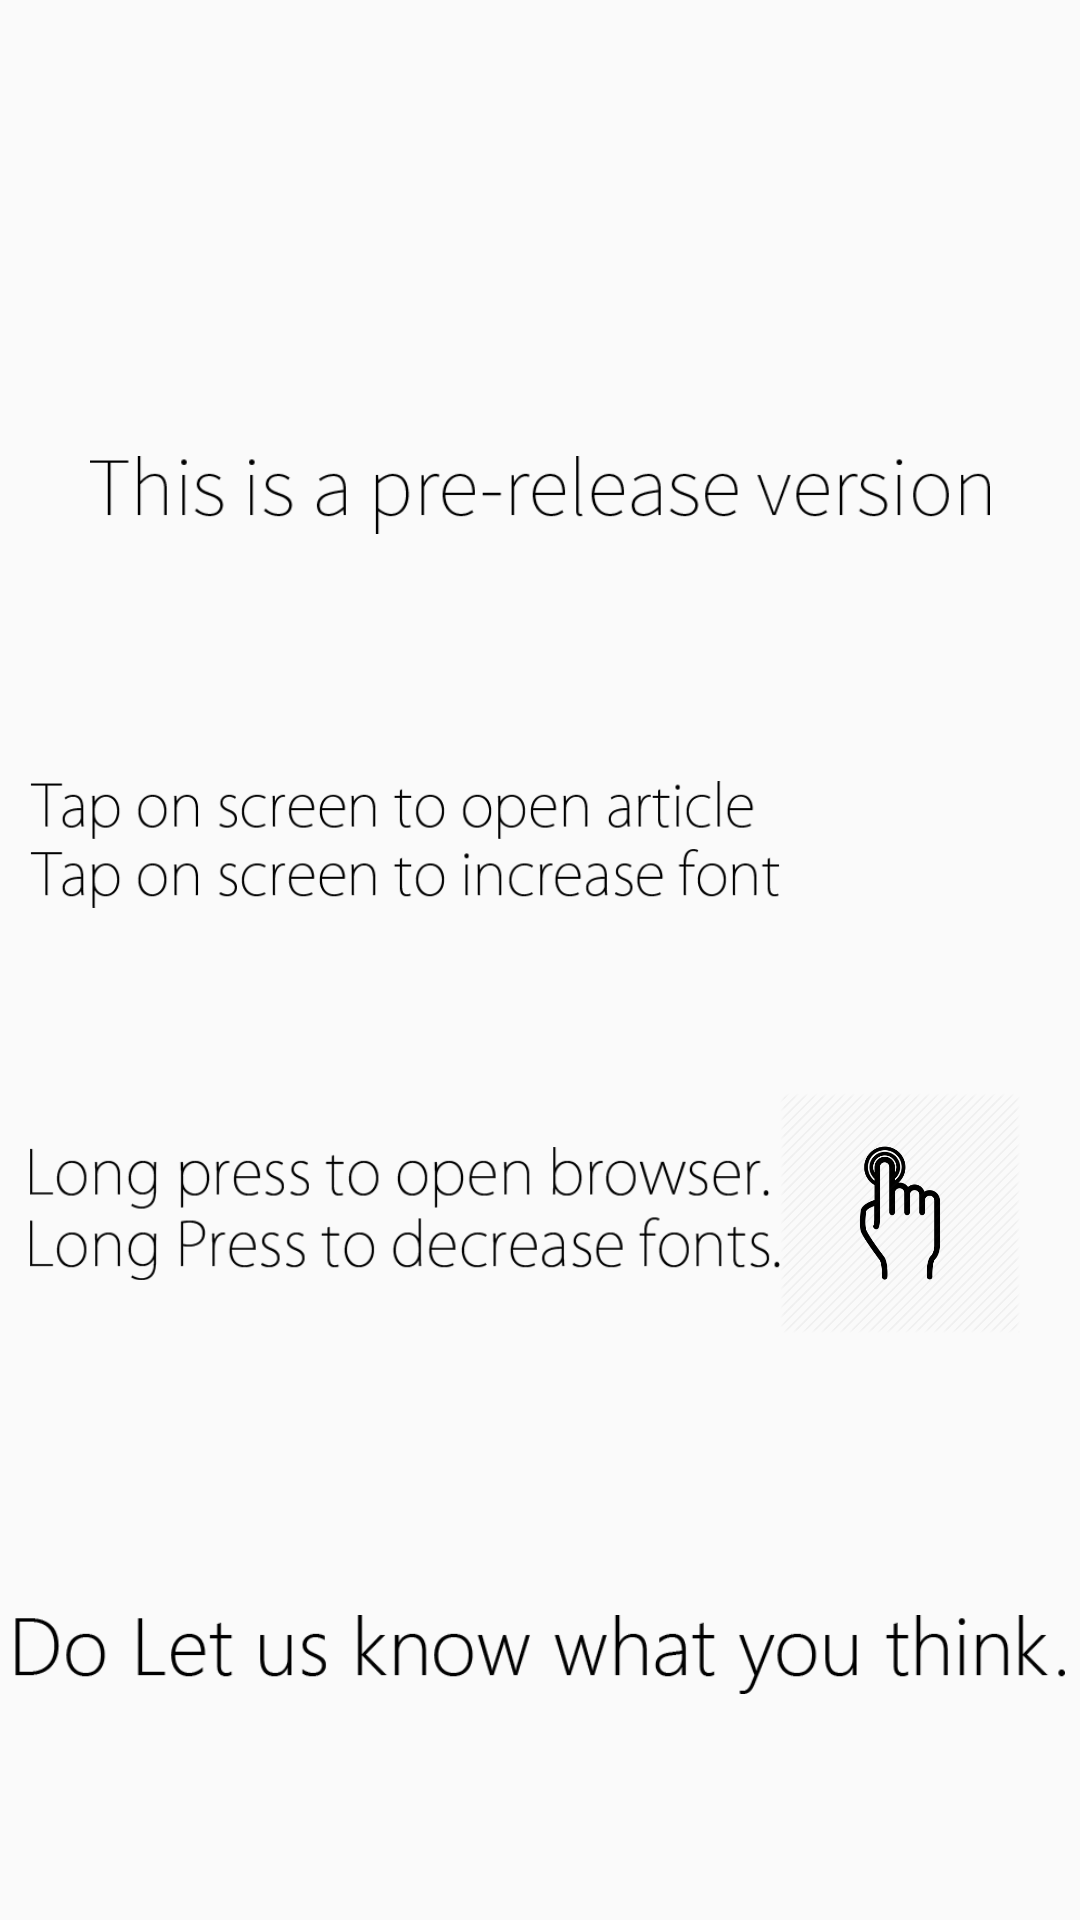

Point at icon controls on the screen. Image size 1080x1920, points as [x,y].
gesture: [900,1213]
